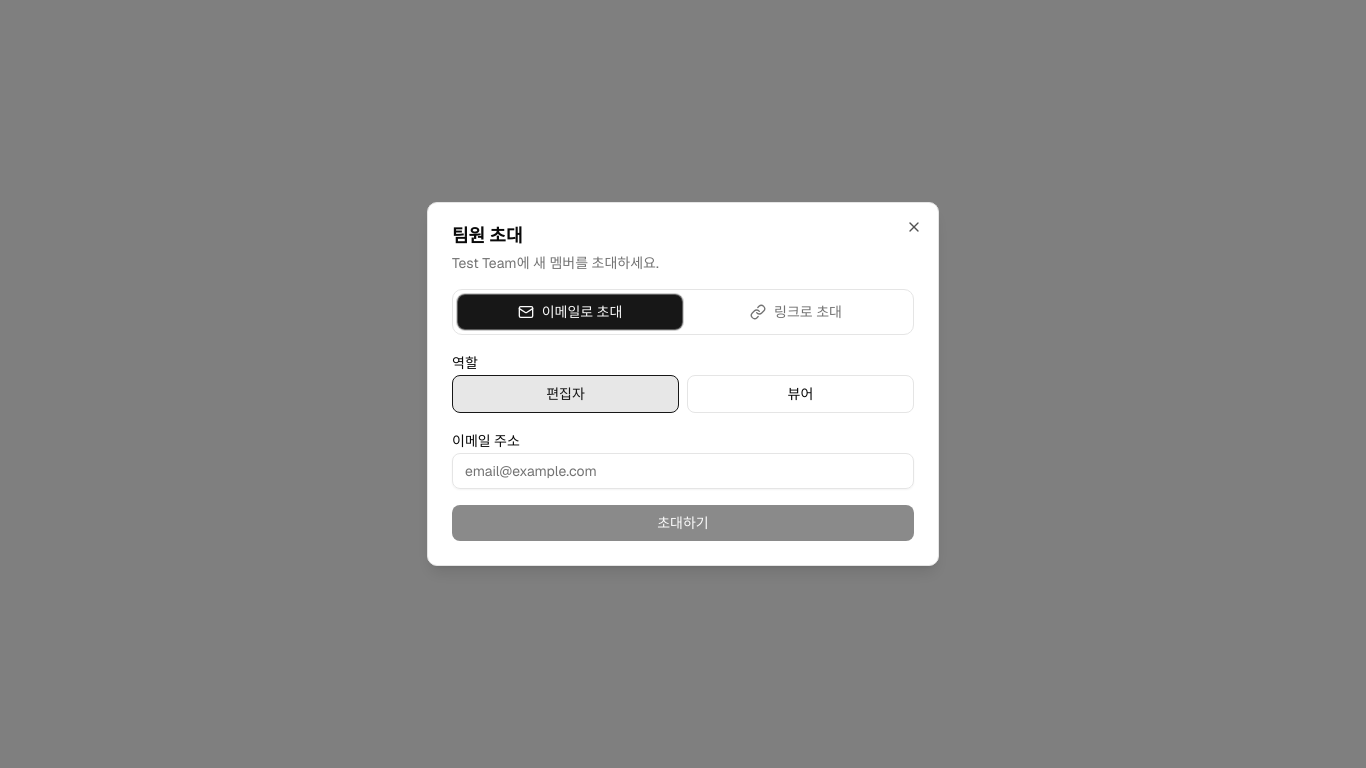
Test: InviteDialog › switches to link invite mode
Click the button "링크로 초대": (796, 312) [683, 294, 909, 330]
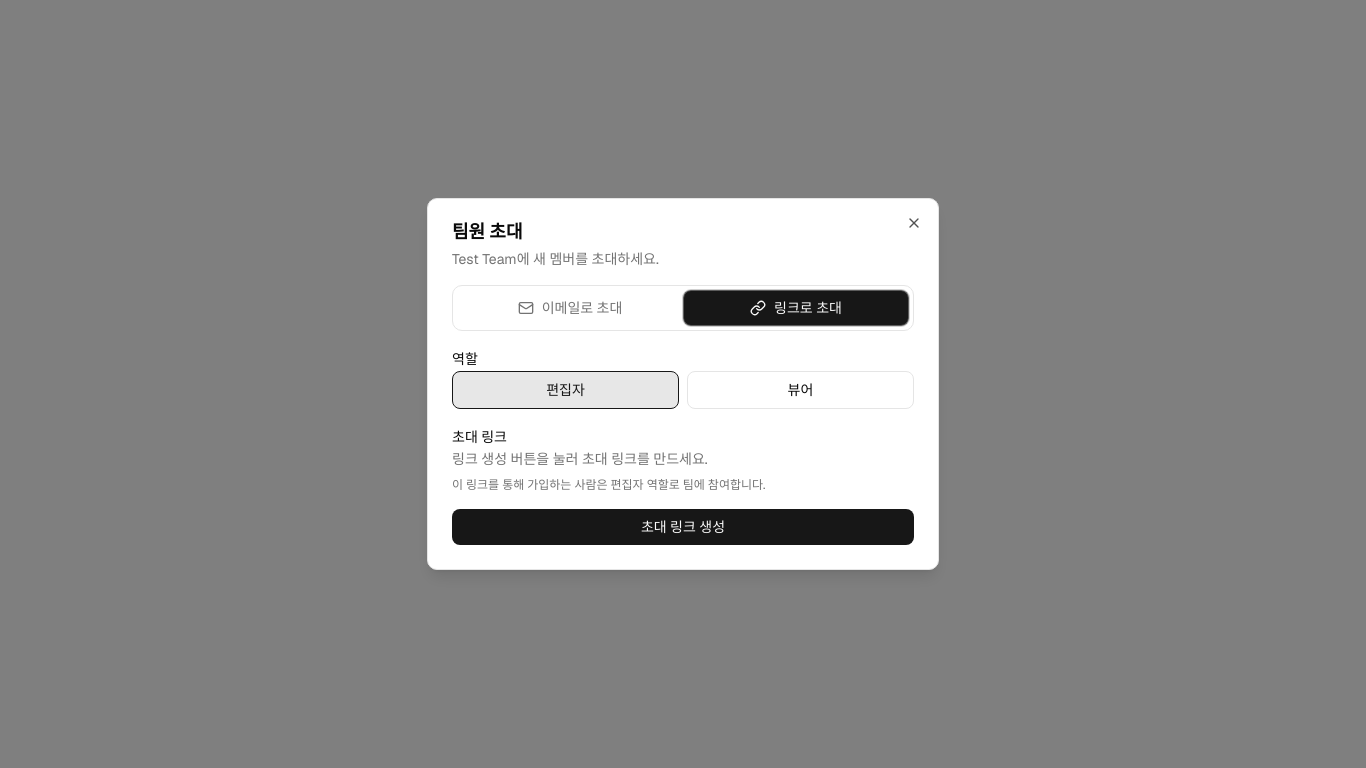
Expected: the button "초대 링크 생성" is shown, [452, 509, 914, 545]
Expected: the text "링크 생성 버튼을 눌러 초대 링크를 만드세요." is shown, [452, 450, 708, 468]
